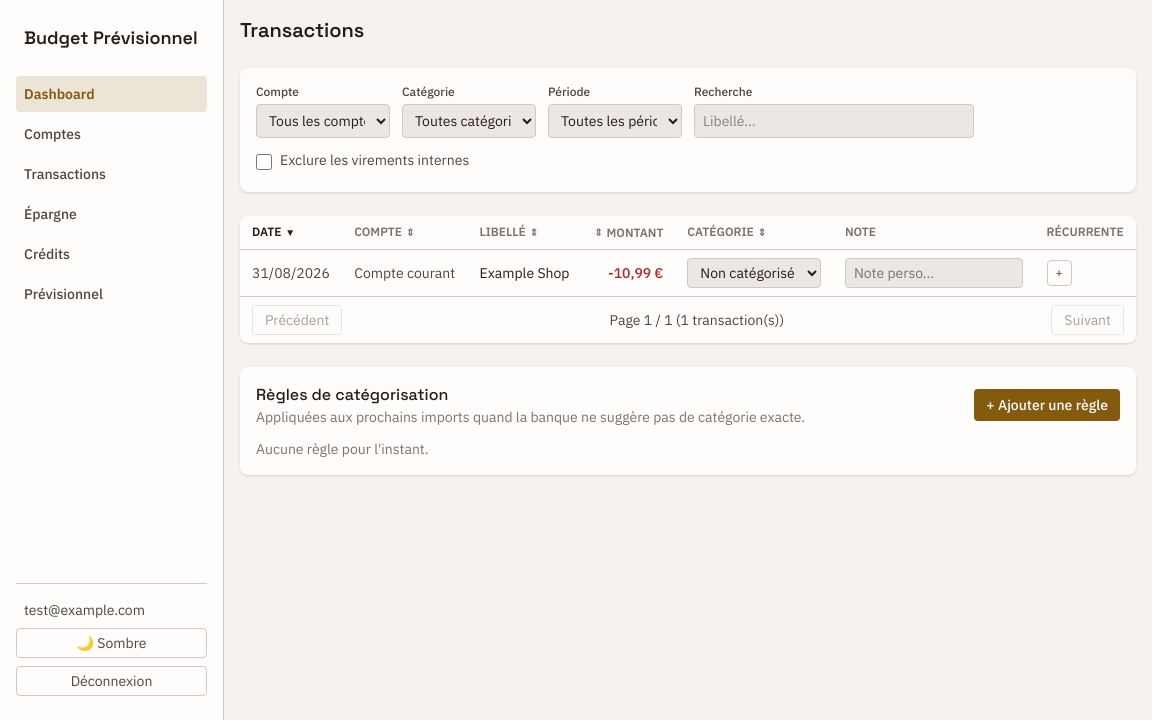
Test case: TransactionsPage › cancels the frequency picker without creating anything
Expected: the text "Example Shop" is shown, [468,249,582,296]
Click the button named "Marquer Example Shop comme dépense récurrente".
click(1059, 273)  # box [1046,260,1072,286]
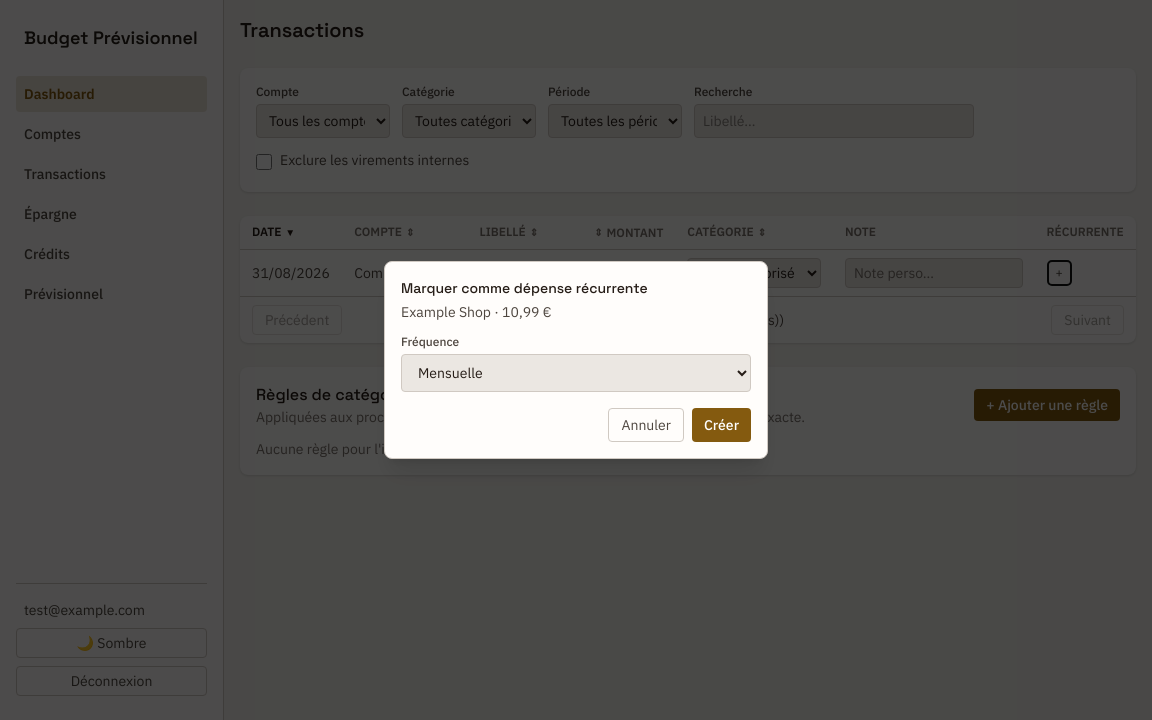
Click the button "Annuler".
click(646, 425)  # box [608,408,684,442]
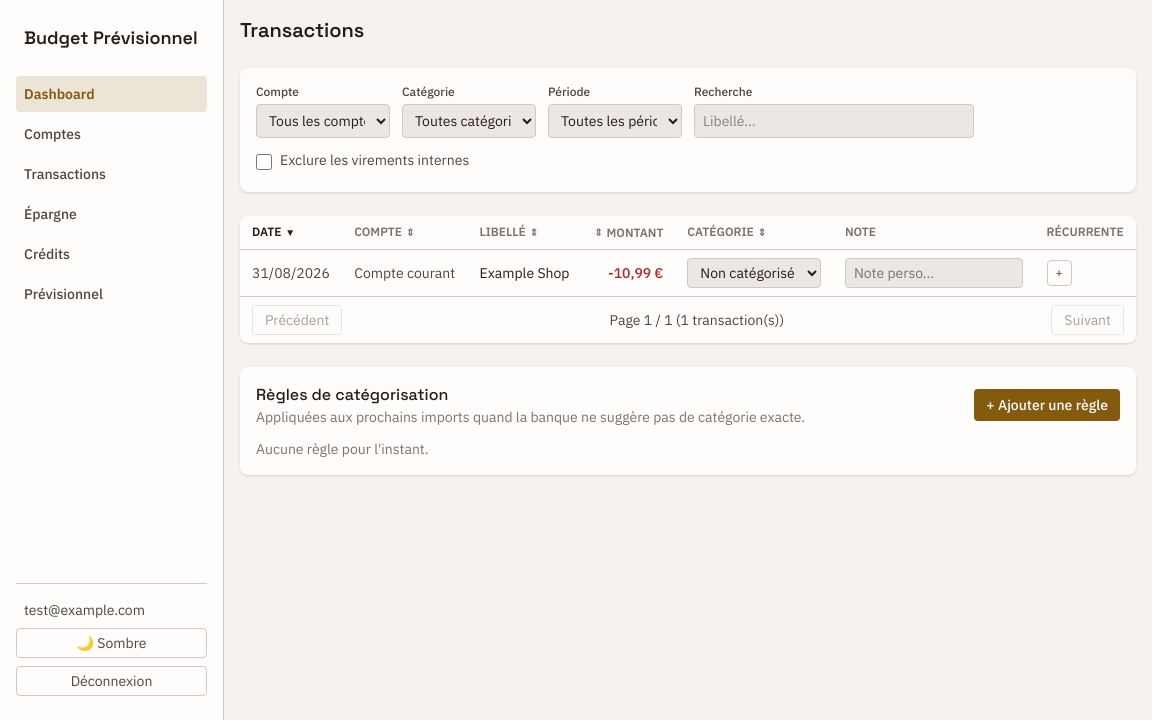
Expected: the button named "Marquer Example Shop comme dépense récurrente" is shown, [1046,260,1072,286]
Expected: the dialog is gone
